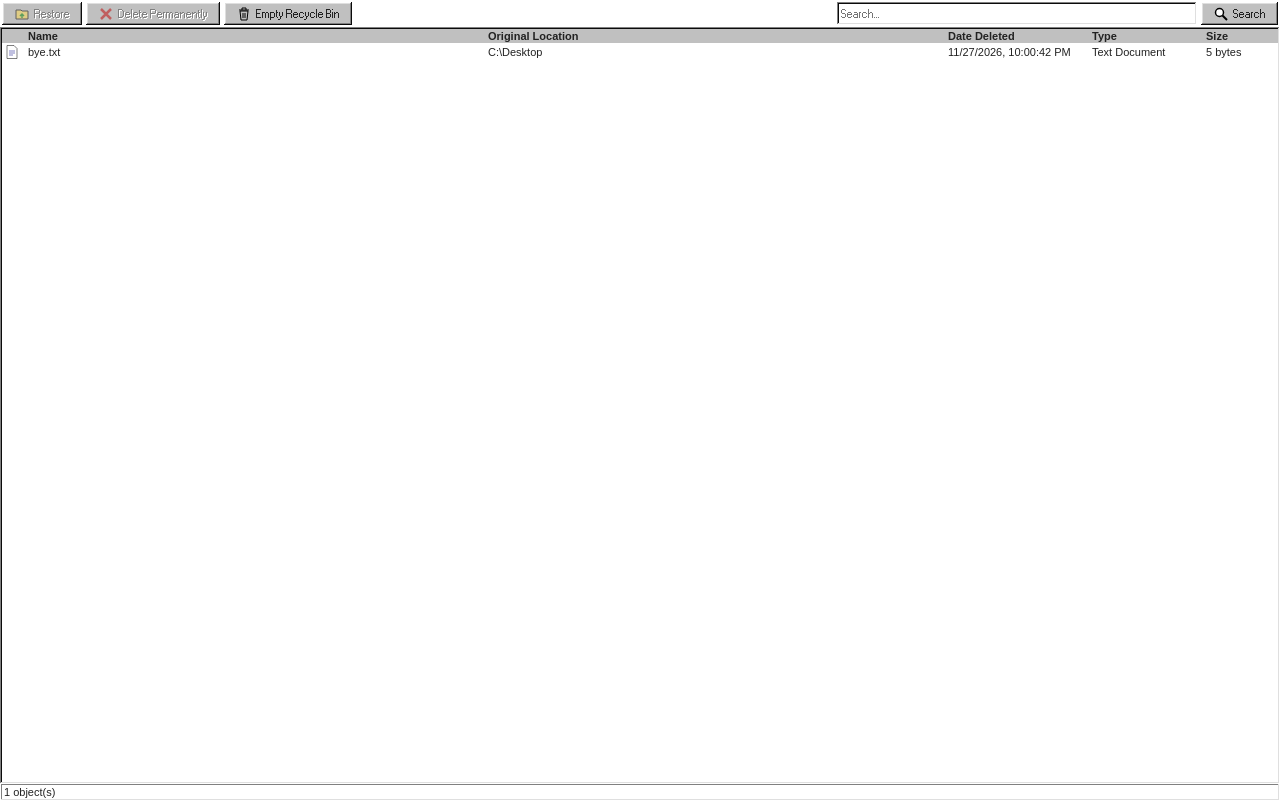
Test: Recycle Bin window › Delete Permanently asks first and then removes the item for good
Press the mouse on the text "bye.txt" at (44, 52), box [28,46,60,58]
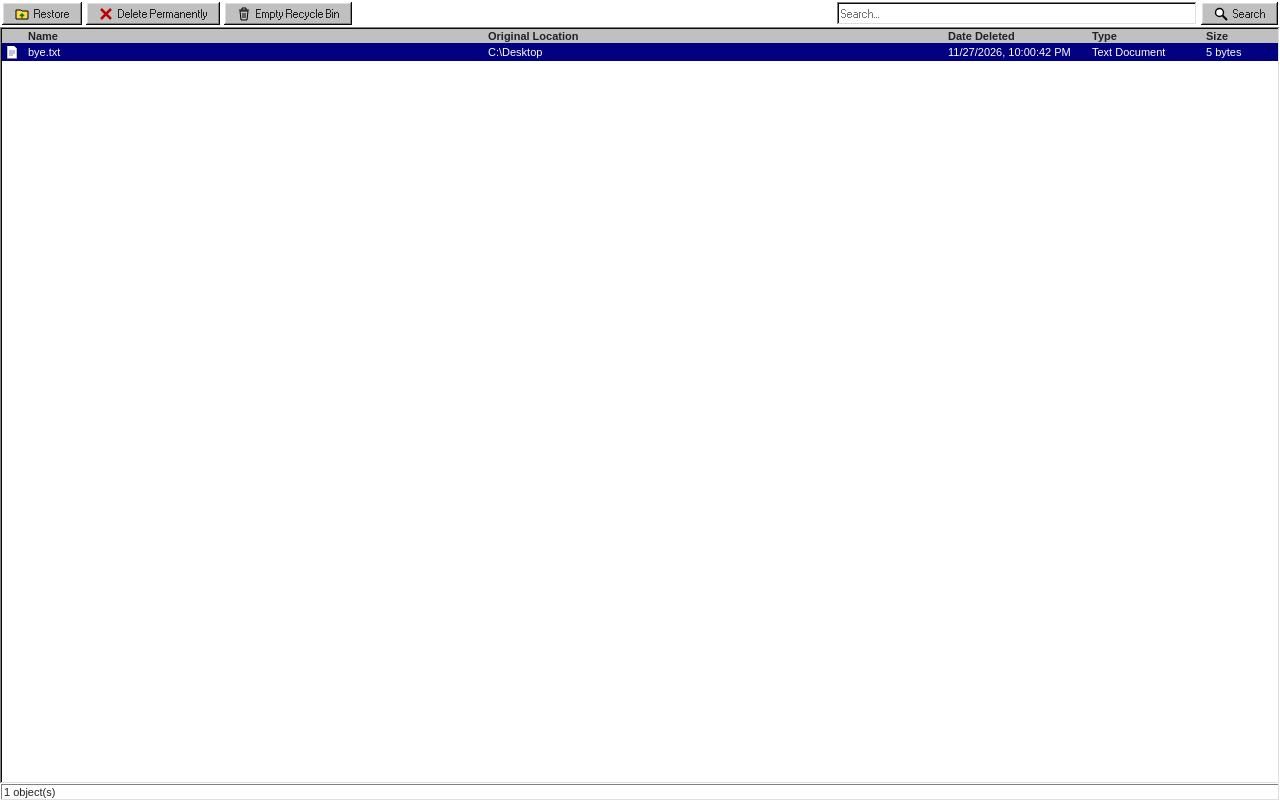
Click the button "Delete Permanently". click: (153, 14)
box: [86,2,220,25]
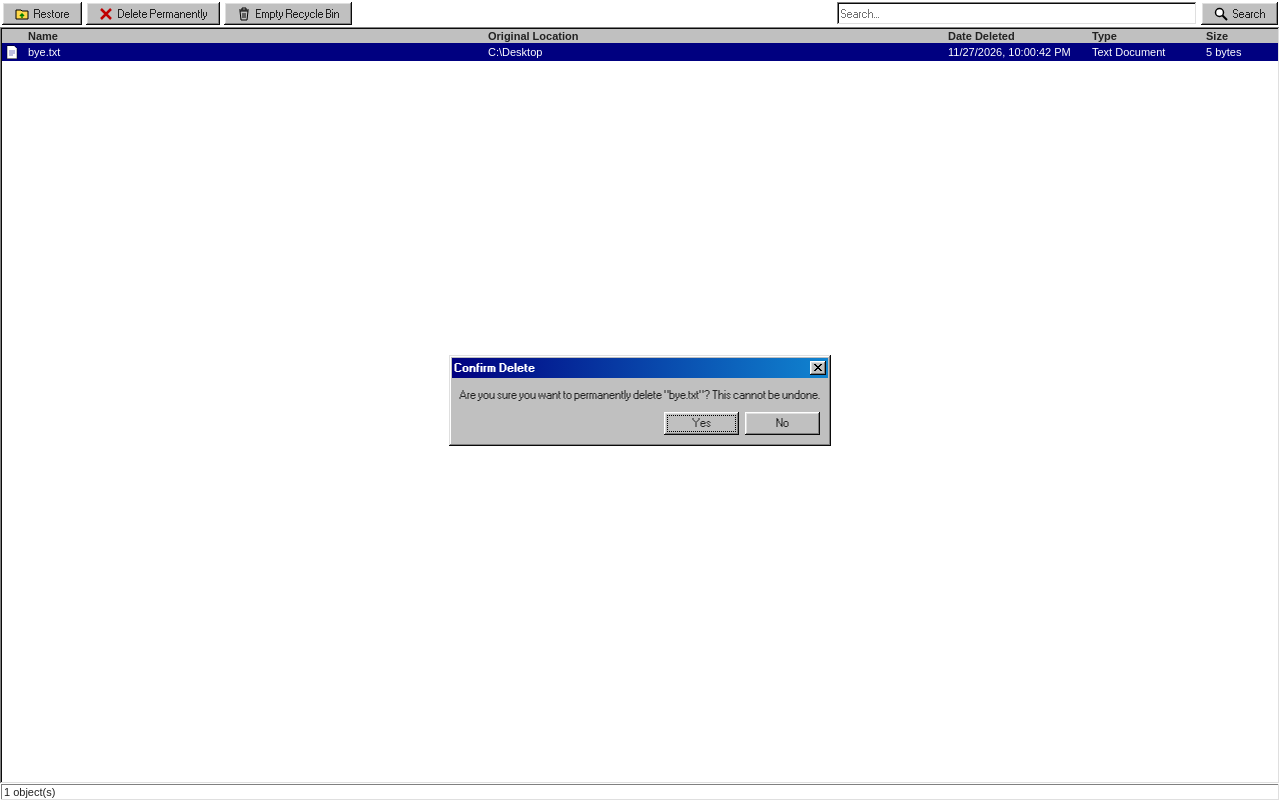
expect the dialog "Confirm Delete" shows "cannot be undone": met, box [460,388,820,400]
Click the button "Yes". click: (702, 423)
box: [664,412,739,434]
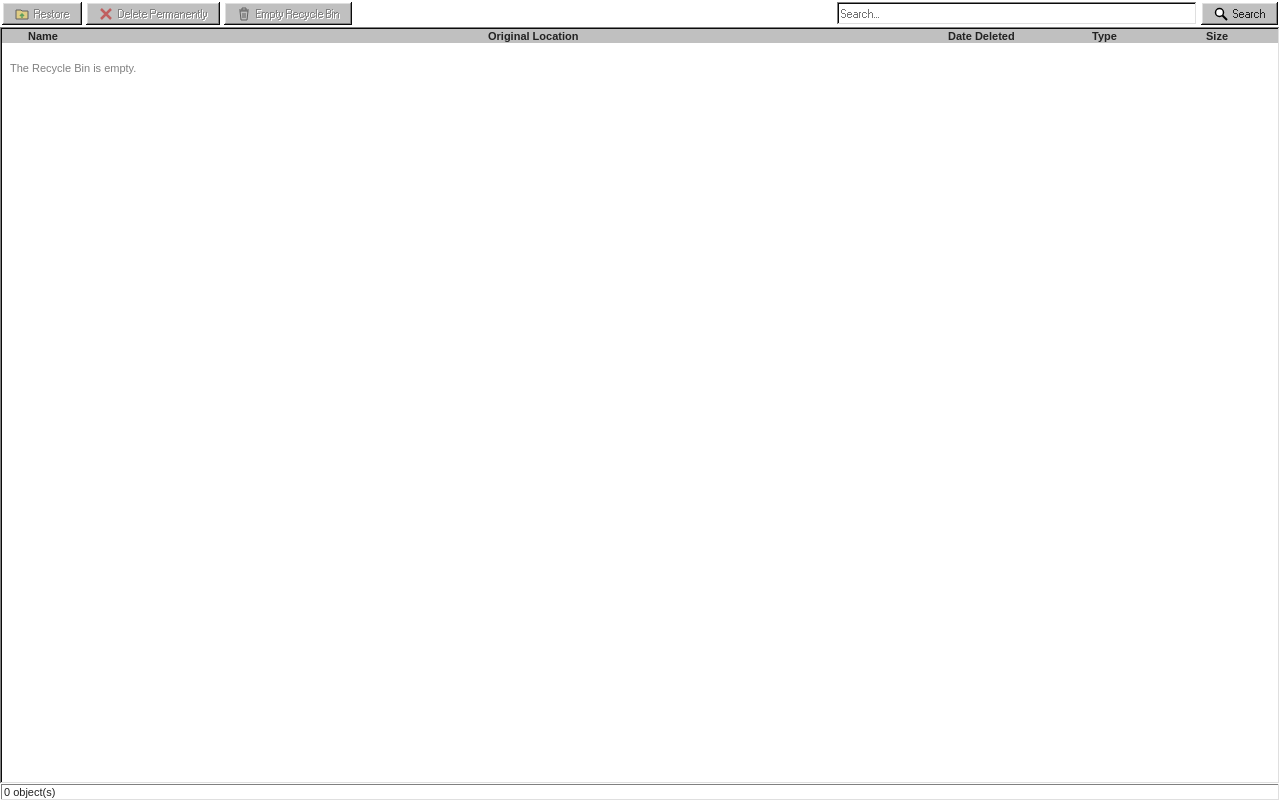
expect the text "The Recycle Bin is empty." is shown: met, box [10,62,136,74]
